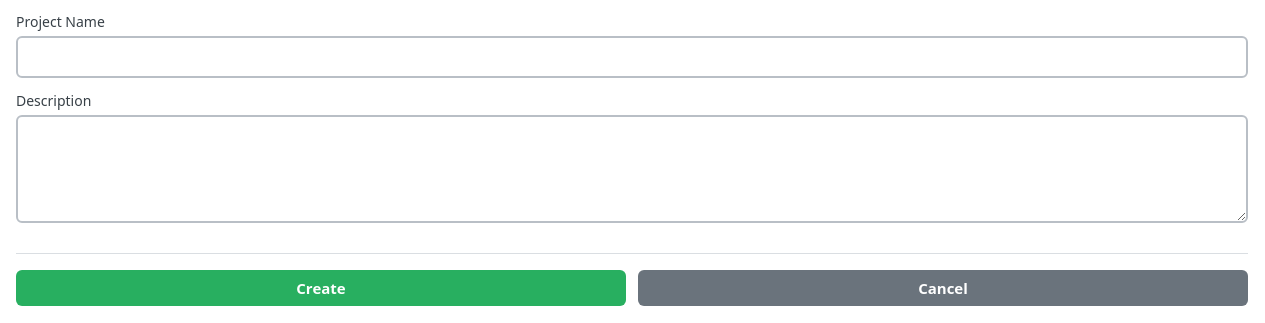
Test: ProjectForm - Form Submission › disables submit button while loading
Expected: the button "Create" is enabled, [16,270,626,306]
Type "Test Project" into the field at (632, 57), box [16,36,1248,78]
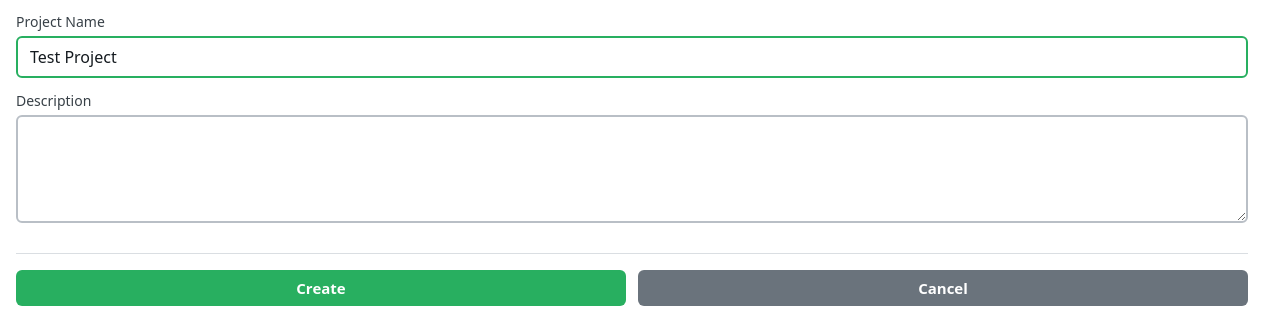
Click the button "Create" at (321, 288), box [16,270,626,306]
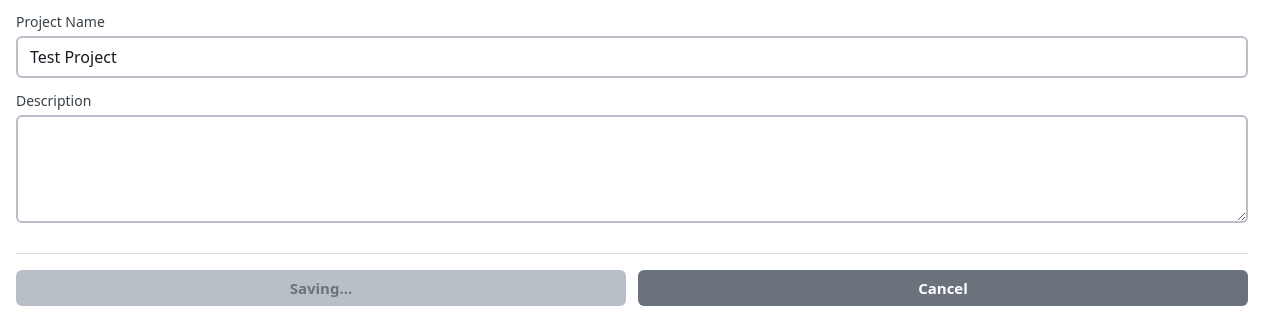
Now the button "Saving..." is disabled, box [16,270,626,306]
